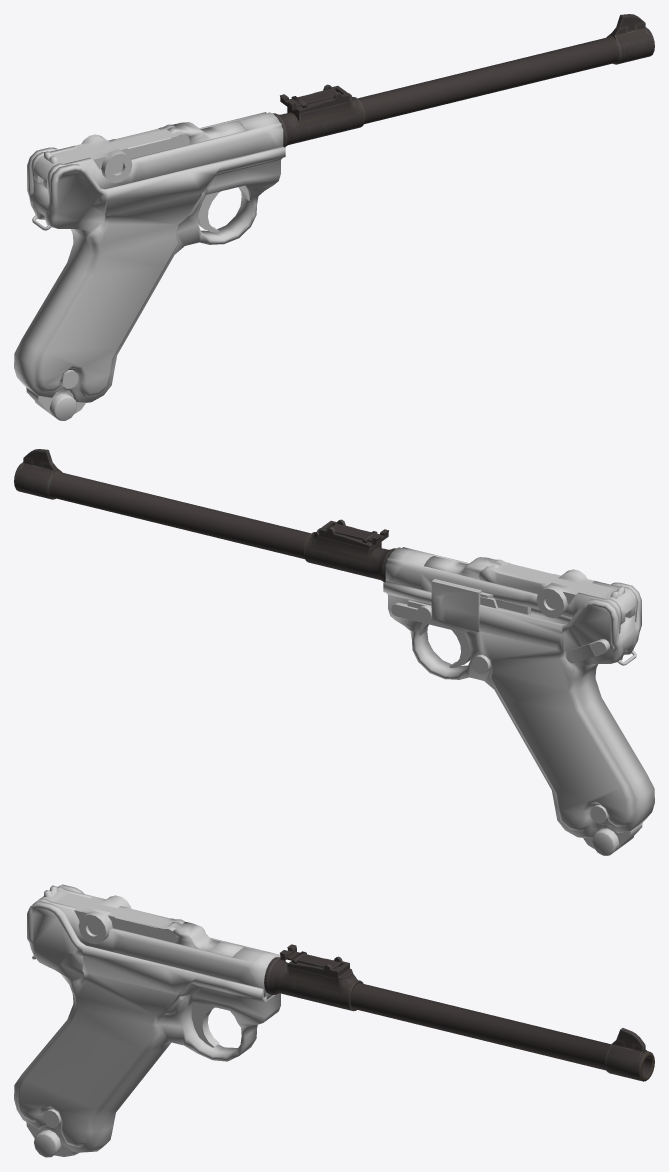
3 renders of one model, top to bottom at view 1: azimuth 30°, elevation 25°; view 2: azimuth 150°, elevation 25°; view 3: azimuth 330°, elevation 25°, orthographic.
Parts seen in each view (by area): view 1: Luger_P08_Body01, Luger_P08_Barrel_ArtilleryModel, Luger_P08_Body02, Luger_P08_ToggleBolt01, Luger_P08_ToggleBolt02, Luger_P08_Magazine, Luger_P08_ToggleBolt03; view 2: Luger_P08_Body01, Luger_P08_Barrel_ArtilleryModel, Luger_P08_Body02, Luger_P08_ToggleBolt01, Luger_P08_ToggleBolt02, Luger_P08_Magazine, Luger_P08_ToggleBolt03, Luger_P08_Body03; view 3: Luger_P08_Body01, Luger_P08_Barrel_ArtilleryModel, Luger_P08_Body02, Luger_P08_ToggleBolt01, Luger_P08_ToggleBolt02, Luger_P08_ToggleBolt03, Luger_P08_Magazine, Luger_P08_Trigger.
Part boxes in pixels (x1,y1,x2,y2): Luger_P08_Body01: (14,146,285,402); Luger_P08_Barrel_ArtilleryModel: (273,14,654,147); Luger_P08_Body02: (31,112,283,198); Luger_P08_ToggleBolt01: (33,134,132,189); Luger_P08_ToggleBolt02: (91,124,189,158); Luger_P08_Magazine: (26,388,85,420); Luger_P08_ToggleBolt03: (167,121,244,144); Luger_P08_Body01: (383,579,654,837); Luger_P08_Barrel_ArtilleryModel: (14,449,395,582); Luger_P08_Body02: (385,547,637,633); Luger_P08_ToggleBolt01: (536,569,635,624); Luger_P08_ToggleBolt02: (479,559,577,593); Luger_P08_Magazine: (583,823,642,855); Luger_P08_ToggleBolt03: (424,556,501,579); Luger_P08_Body03: (566,639,609,663); Luger_P08_Body01: (14,884,280,1152); Luger_P08_Barrel_ArtilleryModel: (264,944,654,1081); Luger_P08_Body02: (32,887,280,999); Luger_P08_ToggleBolt01: (40,885,131,944); Luger_P08_ToggleBolt02: (91,904,184,943); Luger_P08_ToggleBolt03: (167,921,243,956); Luger_P08_Magazine: (26,1122,79,1157); Luger_P08_Trigger: (191,1002,219,1047).
Bounding box in the file's own units: 2 × 0.7933 × 0.1491.
